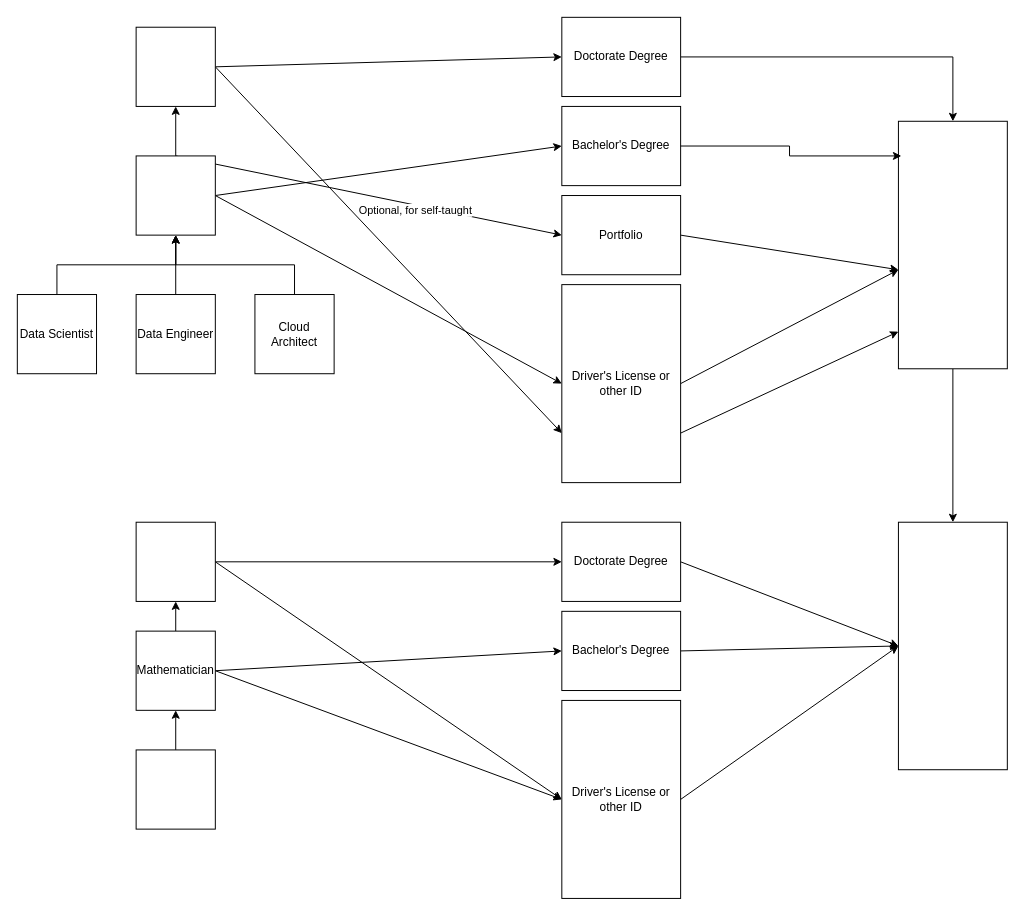
The diagram is 1025 pixels wide and 916 high, and some of its shapes have lost their labels. Each missing label, with the centre of its shape:
CS Professor: [175,66]
Math Professor: [175,561]
Mathematics: [952,645]
Programmer: [175,195]
Programming: [952,244]
Statistician: [175,789]
